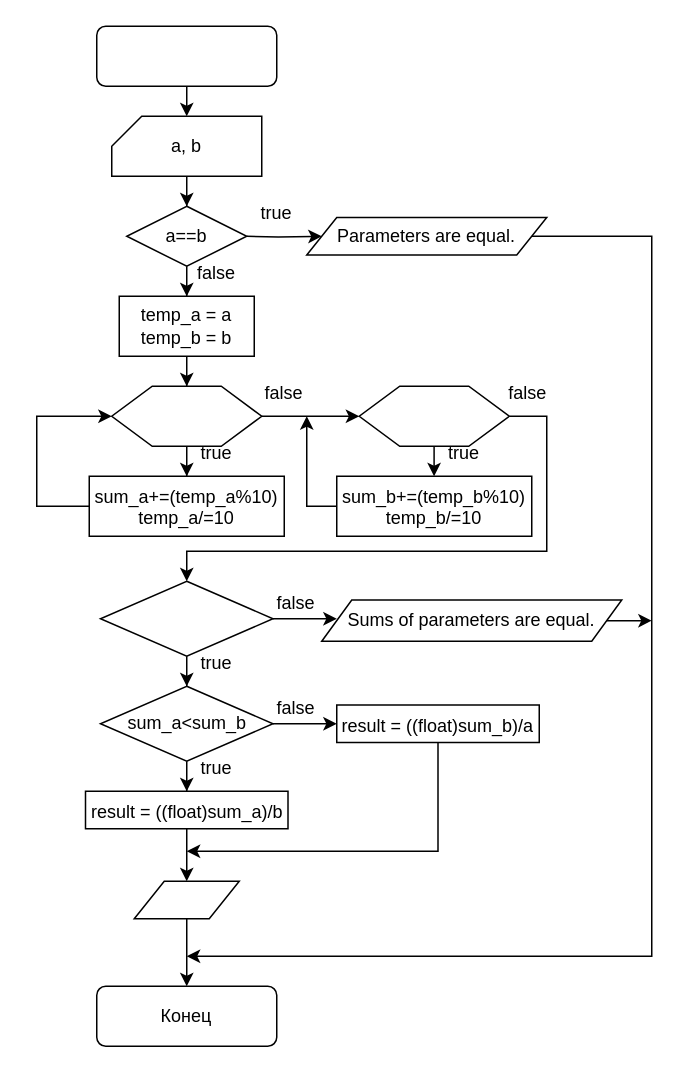
This 690x1073 diagram has some shape labels left out. The shapes that lost their labels are listed below. From the top down, each one's centre as x and y in pixels, then its label:
At point (186, 55): "Начало".
At point (186, 415): "temp_a>=1".
At point (433, 415): "temp_b>=1".
At point (186, 618): "sum_a!=sum_b".
At point (186, 899): "result".
